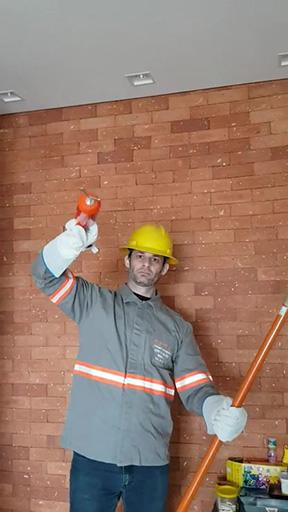Detector_Tensao_Contato: (74, 185, 101, 224)
